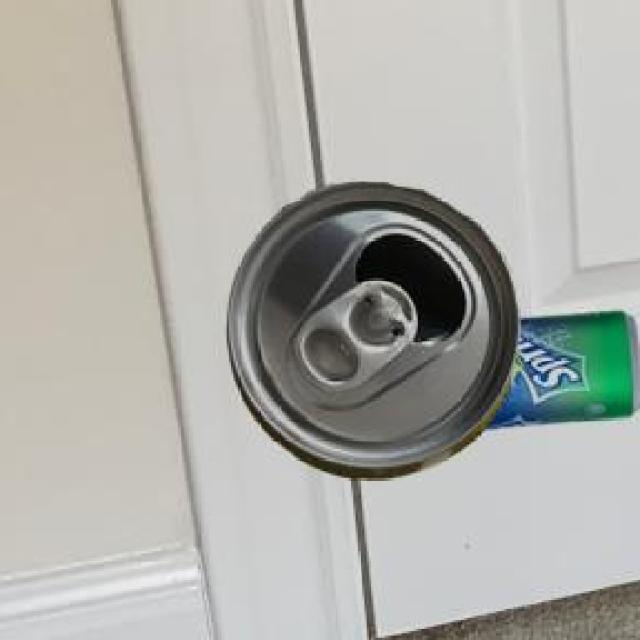logam: (223, 179, 517, 474), (481, 308, 637, 426)
